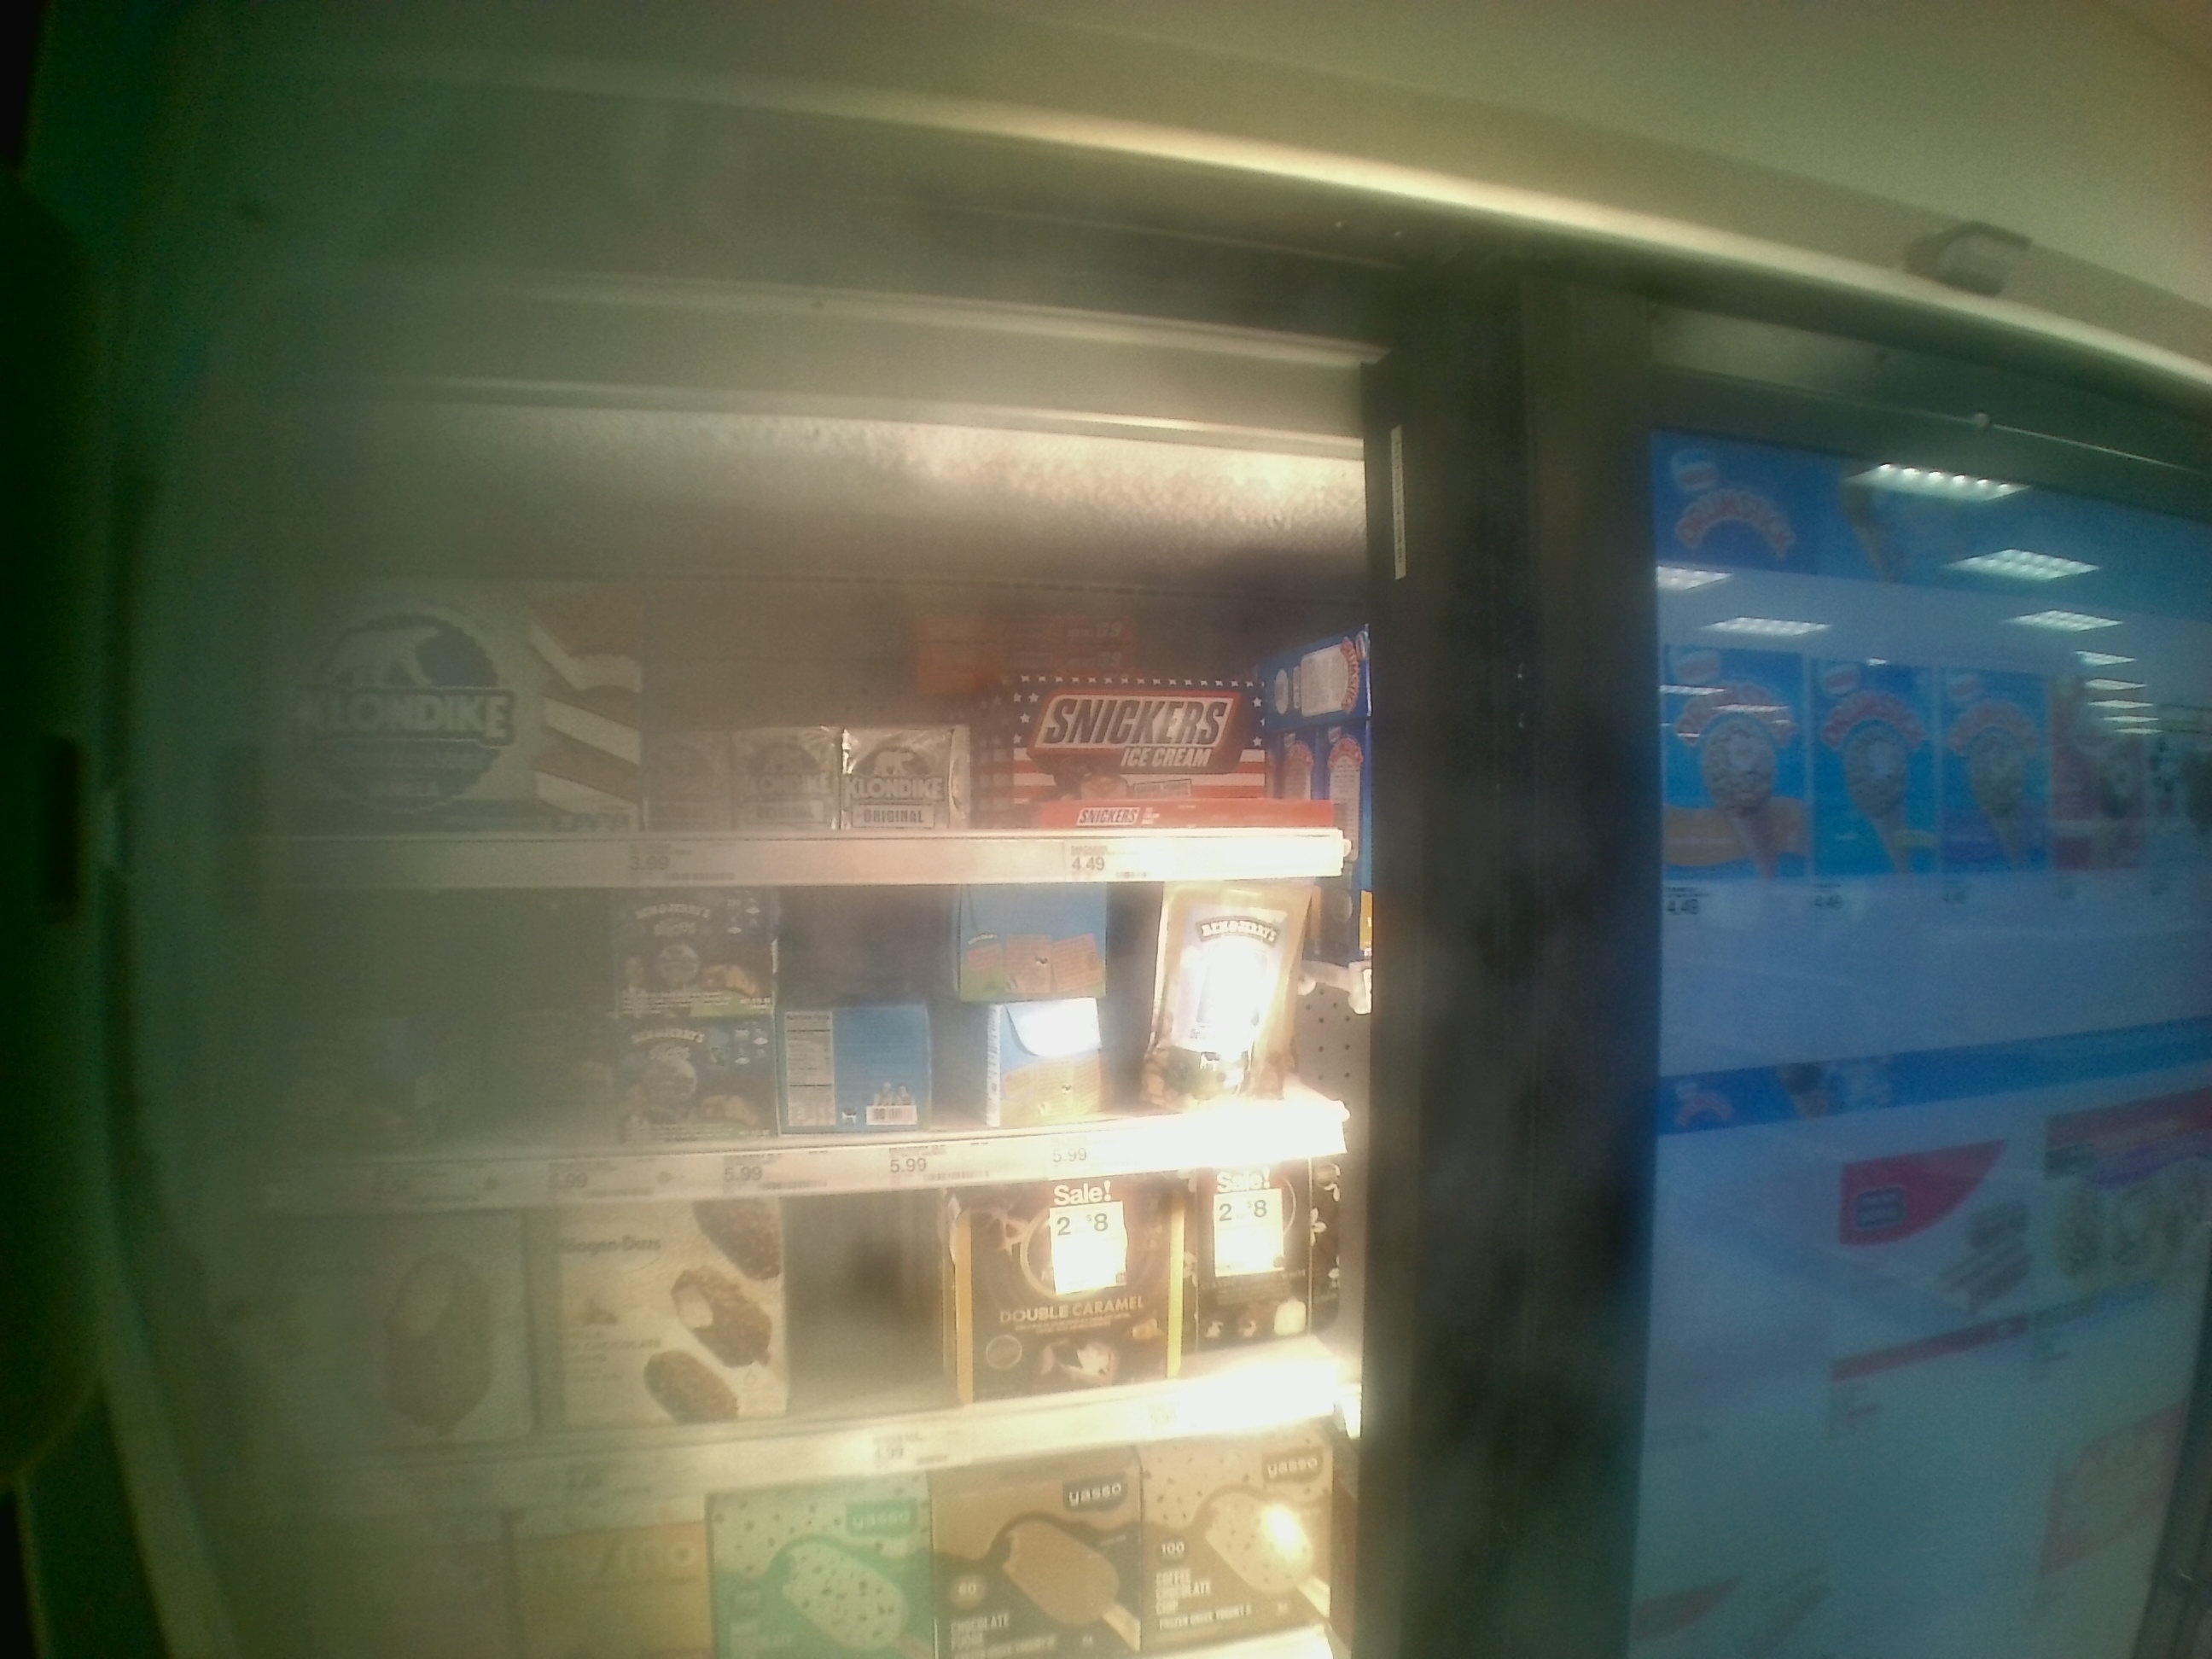shelf: (209, 477, 1345, 887), (185, 1145, 1360, 1520), (199, 892, 1362, 1229)
